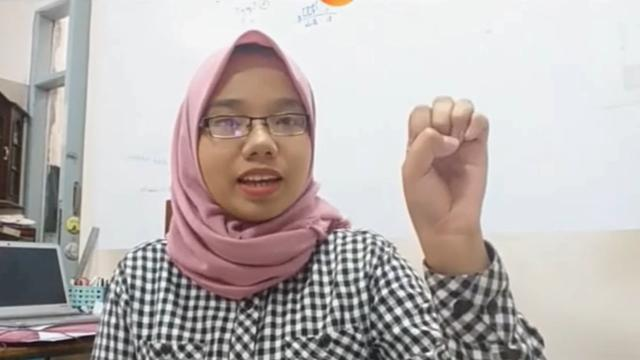E: (402, 94, 492, 239)
